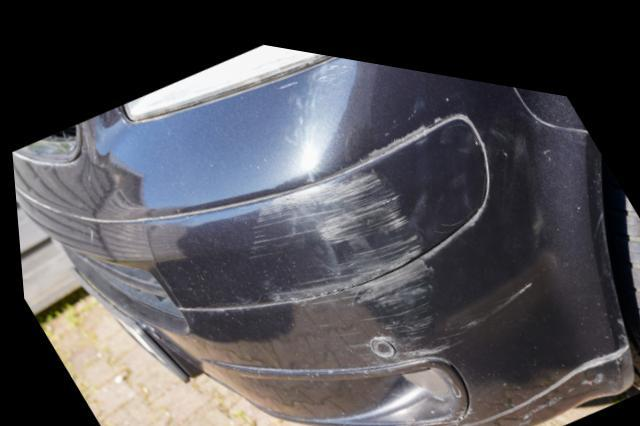scratch: (239, 151, 526, 349)
